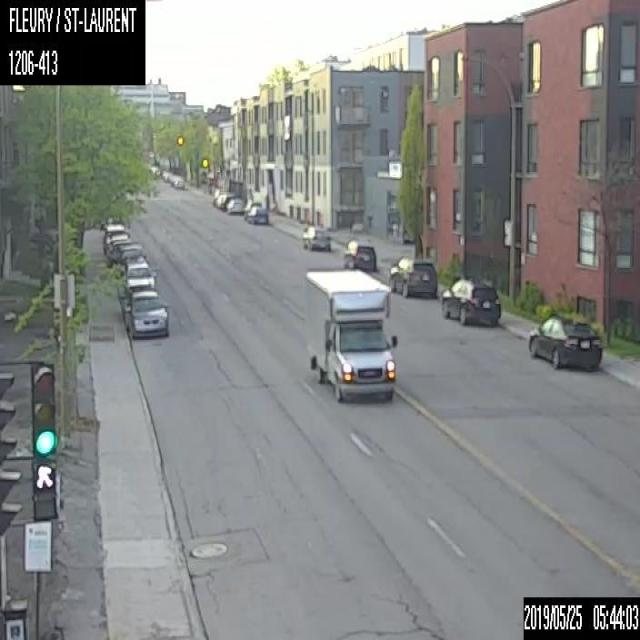vehicle: (305, 268, 397, 401), (525, 314, 602, 369), (439, 274, 501, 326), (124, 289, 168, 339), (389, 256, 436, 296), (123, 259, 156, 293), (342, 240, 376, 269), (296, 222, 330, 250), (246, 205, 268, 224), (226, 198, 244, 214), (221, 193, 235, 210), (175, 178, 182, 190)
